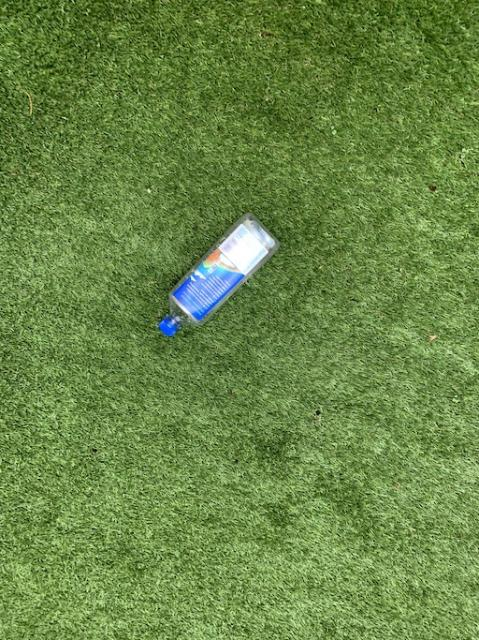plastic: (158, 212, 278, 334)
